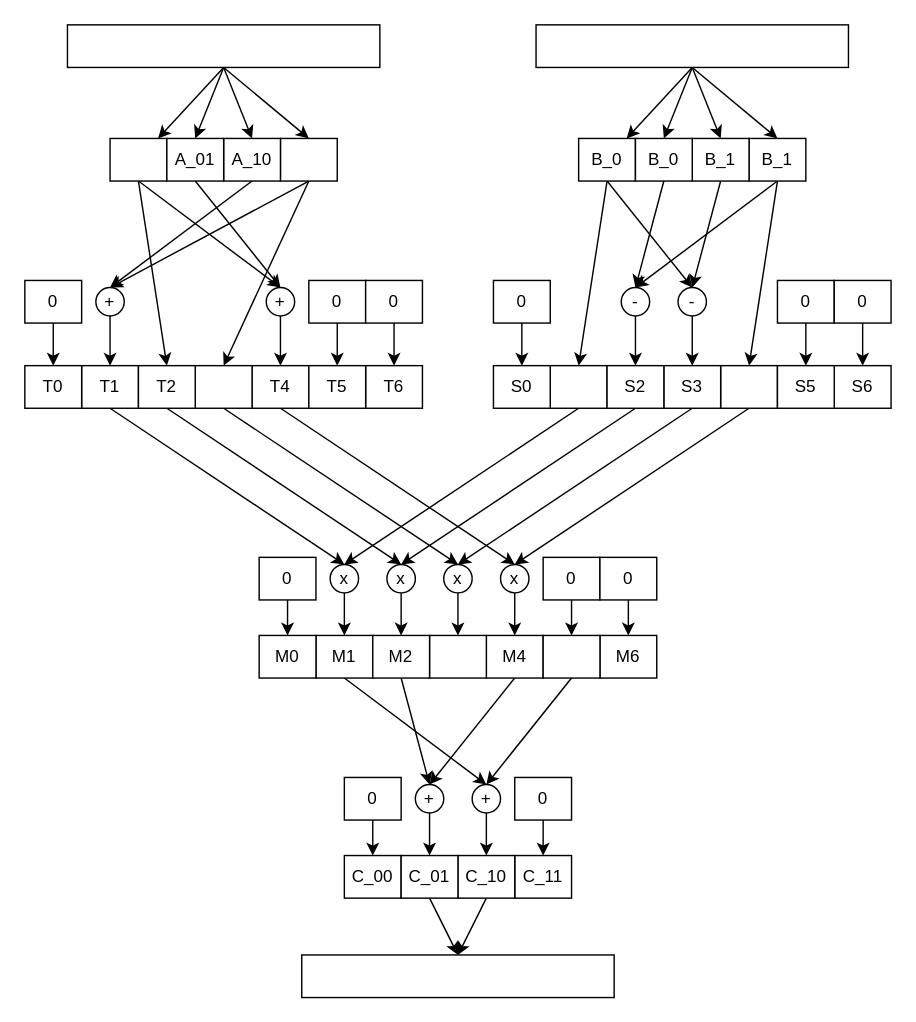
This 916x1022 diagram has some shape labels left out. The shapes that lost their labels are listed below. From the top down, each one's centre as x and y in pixels, then its label:
At pixel 223 45: "A_ij".
At pixel 691 45: "B_i".
At pixel 138 159: "A_00".
At pixel 308 159: "A_11".
At pixel 223 386: "T3".
At pixel 578 386: "S1".
At pixel 748 386: "S4".
At pixel 457 656: "M3".
At pixel 571 656: "M5".
At pixel 457 976: "C_i".
